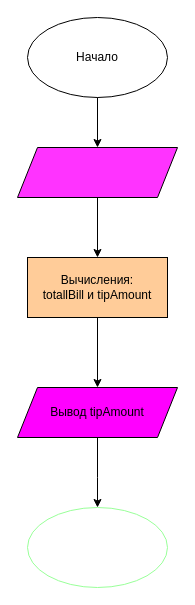
Image size: 195x605. Some labels were removed from this diagram. Here are the shapes that lost their labels. From the top down, the centre of each, then its label:
the point at 97,172: Ввод billPerPerson
the point at 97,547: Конец
